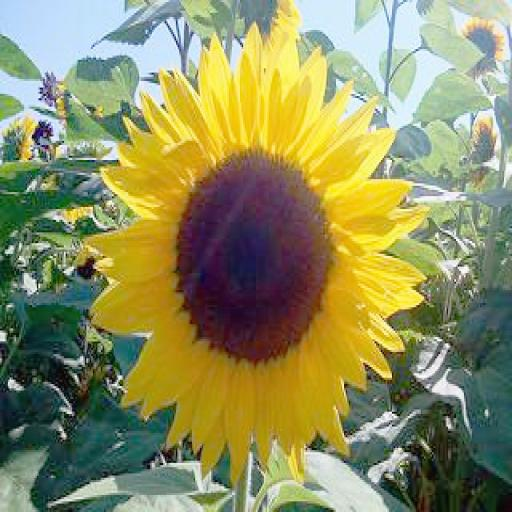sunflower: (92, 28, 422, 482)
